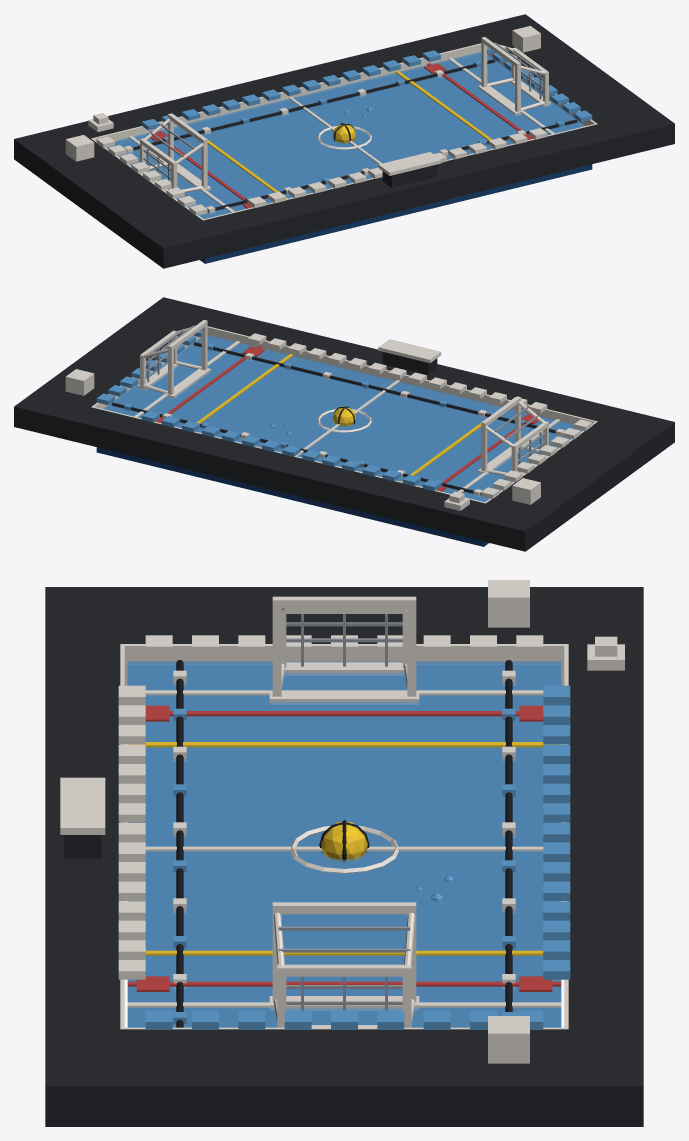
File: waterpolo_scene.glb
3 views of the same model, one above another, from view 1: azimuth 30°, elevation 25°; view 2: azimuth 150°, elevation 25°; view 3: azimuth 270°, elevation 25° (orthographic). The views are drawn at different scales.
Parts seen in each view (by area): view 1: PROP_pool_deck, PROP_water_surface, PROP_water, PROP_pool_walls, PROP_waterpolo_goal_01, PROP_waterpolo_goal_00, PROP_lane_rope_01, PROP_officials_table, PROP_lane_rope_00, PROP_goal_judge_seat_00, PROP_goal_judge_seat_01, PROP_line_5m_01 (+2 smaller); view 2: PROP_pool_deck, PROP_water_surface, PROP_water, PROP_pool_walls, PROP_waterpolo_goal_01, PROP_waterpolo_goal_00, PROP_lane_rope_00, PROP_officials_table, PROP_lane_rope_01, PROP_goal_judge_seat_01, PROP_goal_judge_seat_00, PROP_line_5m_01 (+2 smaller); view 3: PROP_pool_deck, PROP_water_surface, PROP_water, PROP_waterpolo_goal_00, PROP_waterpolo_goal_01, PROP_pool_walls, PROP_lane_rope_00, PROP_lane_rope_01, PROP_officials_table, PROP_line_5m_00, PROP_line_2m_00, PROP_goal_judge_seat_00 (+9 smaller).
Part boxes in pixels (x1,y1,x2,y2): PROP_pool_deck: [14, 14, 674, 268]; PROP_water_surface: [106, 52, 585, 218]; PROP_water: [115, 54, 592, 263]; PROP_pool_walls: [91, 43, 597, 220]; PROP_waterpolo_goal_01: [478, 37, 550, 115]; PROP_waterpolo_goal_00: [140, 113, 210, 192]; PROP_lane_rope_01: [124, 59, 495, 153]; PROP_officials_table: [378, 152, 441, 187]; PROP_lane_rope_00: [206, 119, 577, 213]; PROP_goal_judge_seat_00: [65, 135, 94, 161]; PROP_goal_judge_seat_01: [512, 26, 540, 52]; PROP_line_5m_01: [395, 71, 492, 140]; PROP_pool_deck: [14, 297, 674, 551]; PROP_water_surface: [103, 335, 582, 501]; PROP_water: [96, 337, 573, 546]; PROP_pool_walls: [91, 326, 597, 503]; PROP_waterpolo_goal_01: [138, 320, 210, 398]; PROP_waterpolo_goal_00: [478, 396, 548, 475]; PROP_lane_rope_00: [193, 342, 564, 436]; PROP_officials_table: [378, 339, 441, 375]; PROP_lane_rope_01: [111, 402, 482, 496]; PROP_goal_judge_seat_01: [65, 369, 94, 395]; PROP_goal_judge_seat_00: [512, 478, 540, 504]; PROP_line_5m_01: [196, 354, 293, 423]; PROP_pool_deck: [45, 587, 643, 1126]; PROP_water_surface: [127, 661, 561, 1027]; PROP_water: [128, 665, 560, 1026]; PROP_waterpolo_goal_00: [269, 596, 419, 704]; PROP_waterpolo_goal_01: [269, 902, 419, 1027]; PROP_pool_walls: [120, 644, 568, 1029]; PROP_lane_rope_00: [173, 660, 186, 1027]; PROP_lane_rope_01: [502, 660, 515, 1015]; PROP_officials_table: [60, 777, 105, 858]; PROP_line_5m_00: [128, 742, 560, 747]; PROP_line_2m_00: [145, 711, 543, 716]; PROP_goal_judge_seat_00: [488, 580, 529, 627].
Size of the model in its own units: 7.9 by 1.31 by 4.
